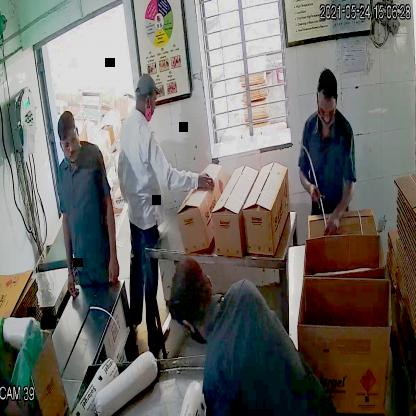goggles: (58, 130, 80, 152)
